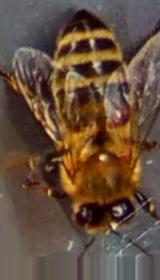varroa_mite: (108, 92, 132, 132)
